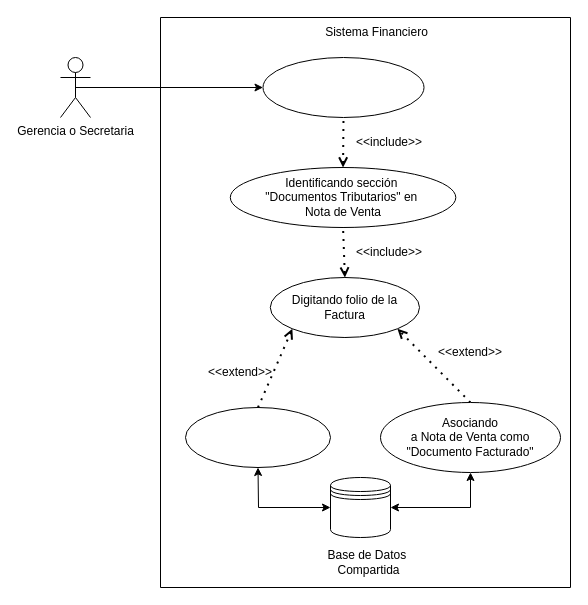
This 588x605 diagram has some shape labels left out. Here are the shapes that lost their labels. From the top down, the centre of each, then its label:
At point (343, 87): "Vinculando folio de Factura Electrónica".
At point (257, 437): "Almacenando folio".
